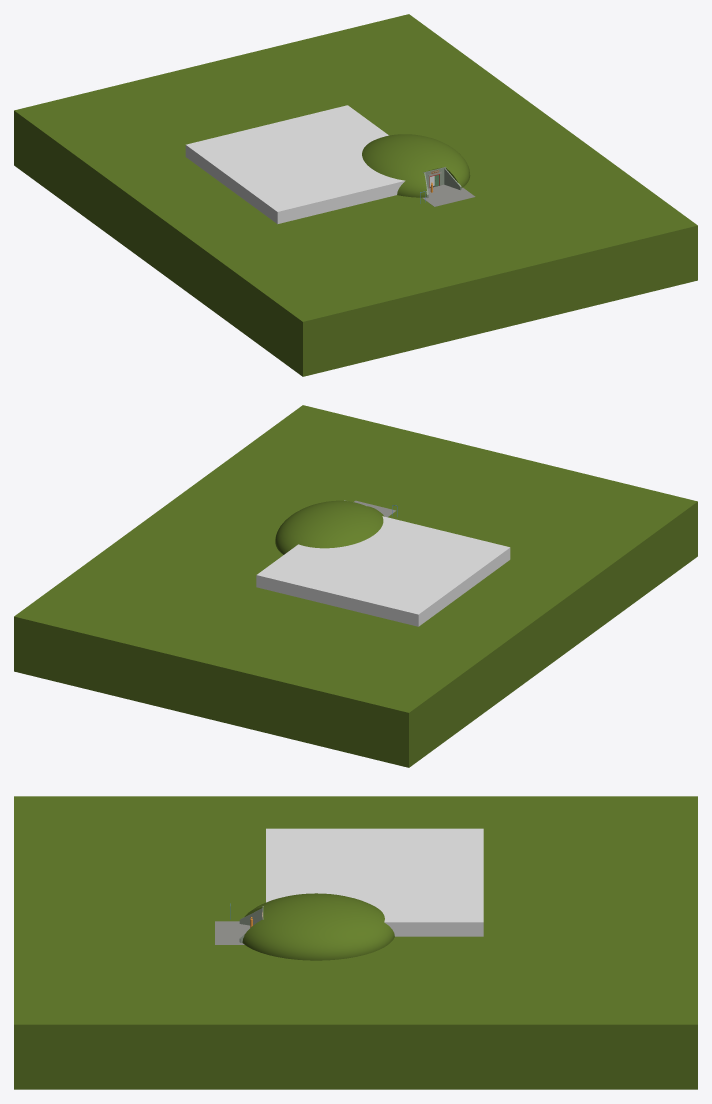
The model's file is ark_two_v006.glb.
3 views of the same model, one above another, from view 1: azimuth 30°, elevation 25°; view 2: azimuth 150°, elevation 25°; view 3: azimuth 270°, elevation 25° (orthographic). The views are drawn at different scales.
Visible parts, largest first — view 1: Ground_Soil, Zone_Interior, Earth_Mound, Apron_Concrete; view 2: Ground_Soil, Zone_Interior, Earth_Mound; view 3: Ground_Soil, Zone_Interior, Earth_Mound, Apron_Concrete.
Boxes of the visible parts, x1,y1,x2,y2 form: Ground_Soil: [14, 14, 697, 376]; Zone_Interior: [185, 105, 434, 224]; Earth_Mound: [362, 134, 470, 197]; Apron_Concrete: [422, 184, 475, 206]; Ground_Soil: [14, 405, 697, 767]; Zone_Interior: [256, 516, 510, 626]; Earth_Mound: [275, 500, 384, 554]; Ground_Soil: [14, 796, 697, 1089]; Zone_Interior: [266, 828, 483, 936]; Earth_Mound: [242, 893, 394, 960]; Apron_Concrete: [215, 921, 250, 944].
Size of the model in its own units: 75 by 14.4 by 95.
